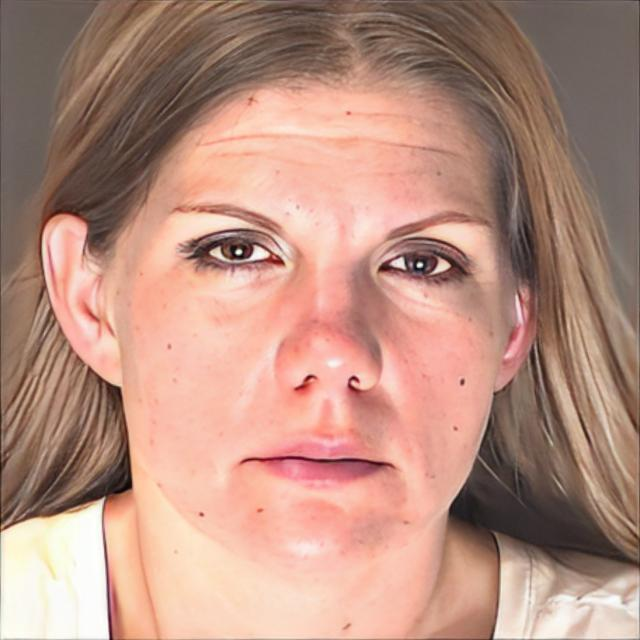neutral: (117, 66, 505, 586)
